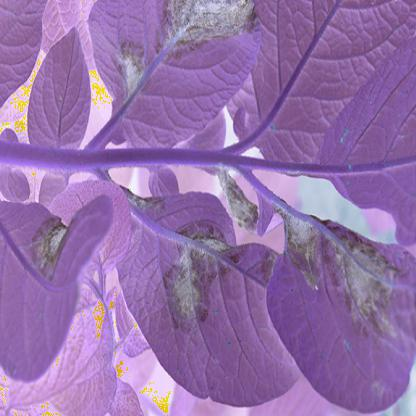potato leaf late blight: (105, 172, 316, 415), (249, 168, 415, 403), (88, 1, 268, 164), (1, 178, 119, 383)
